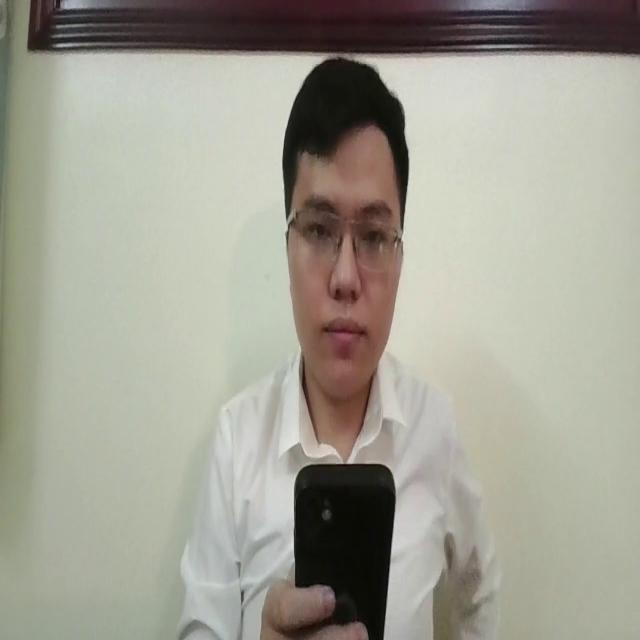phone: (291, 456, 396, 640)
student: (176, 48, 507, 640)
